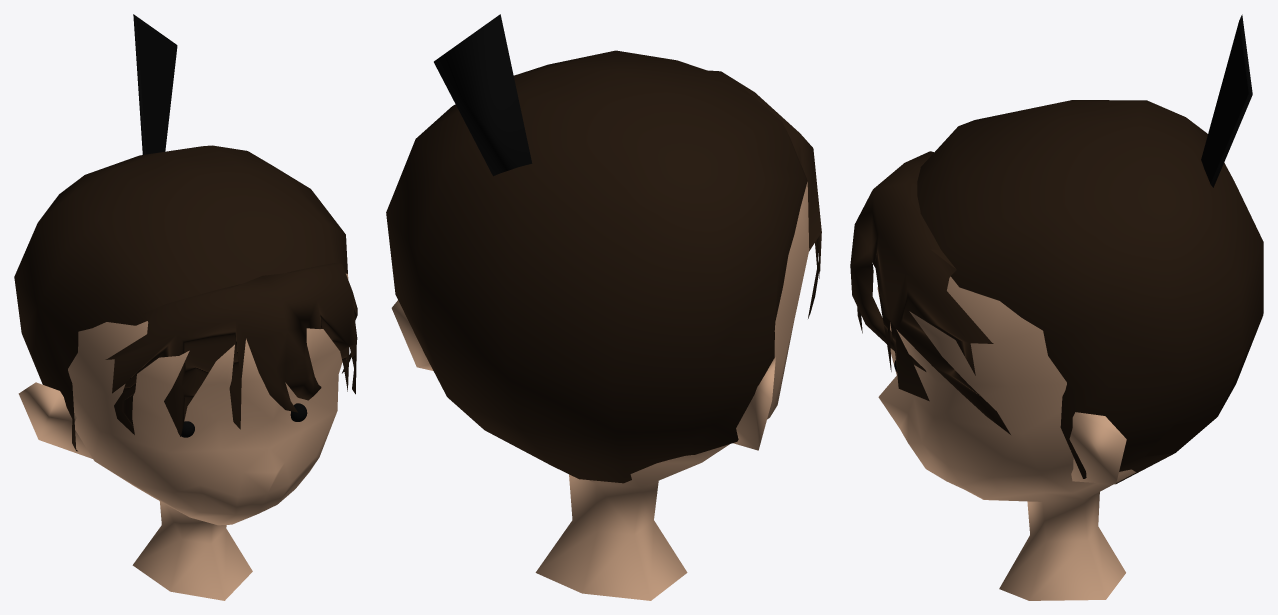
File: head.obj
3 views of the same model, side by side, from view 1: azimuth 30°, elevation 25°; view 2: azimuth 150°, elevation 25°; view 3: azimuth 270°, elevation 25° (orthographic). The views are drawn at different scales.
Parts seen in each view (by area): view 1: _Mesh3, _Mesh5, _Mesh4, _Plane003; view 2: _Mesh3, _Mesh5, _Plane003, _Mesh4; view 3: _Mesh3, _Mesh5, _Mesh4, _Plane003.
Part boxes in pixels (left/top/right/bottom): _Mesh3: left=14, top=145, right=347, bottom=451; _Mesh5: left=18, top=273, right=348, bottom=600; _Mesh4: left=105, top=263, right=357, bottom=436; _Plane003: left=133, top=14, right=177, bottom=154; _Mesh3: left=386, top=50, right=807, bottom=483; _Mesh5: left=391, top=182, right=809, bottom=600; _Plane003: left=434, top=14, right=532, bottom=176; _Mesh4: left=708, top=70, right=821, bottom=318; _Mesh3: left=917, top=100, right=1263, bottom=483; _Mesh5: left=877, top=276, right=1135, bottom=600; _Mesh4: left=850, top=151, right=1010, bottom=434; _Plane003: left=1201, top=14, right=1252, bottom=187.
Size of the model in its own units: 36.87 by 59.2 by 38.04.
